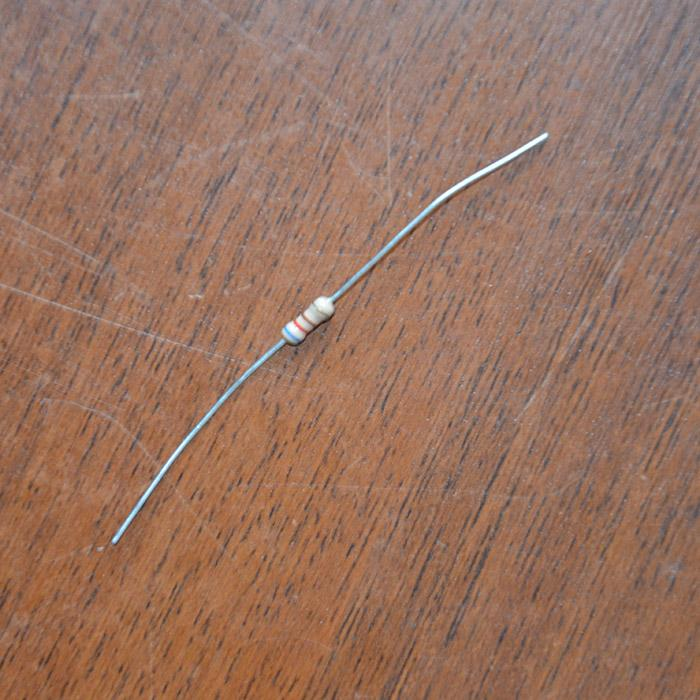resistor: (281, 294, 334, 346)
